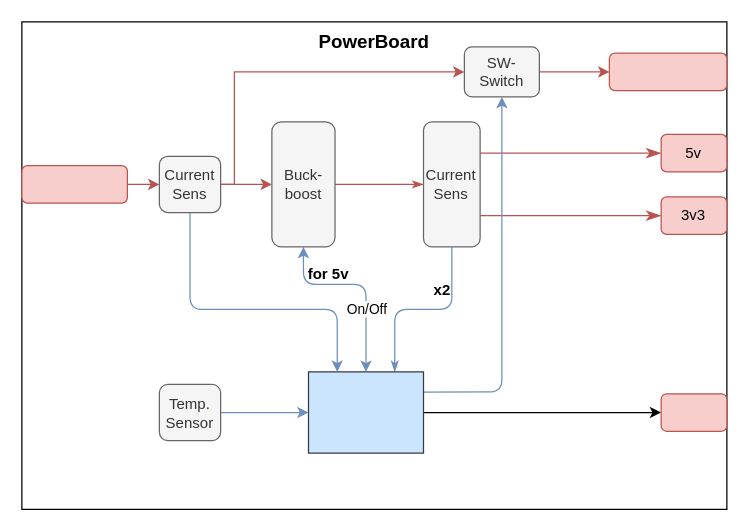
This 749x531 diagram has some shape labels left out. Each missing label, with the centre of its shape:
1s/3s: the point at 74,183
I2C: the point at 693,411
LiPoBypass: the point at 667,71
STM32L0: the point at 365,412
